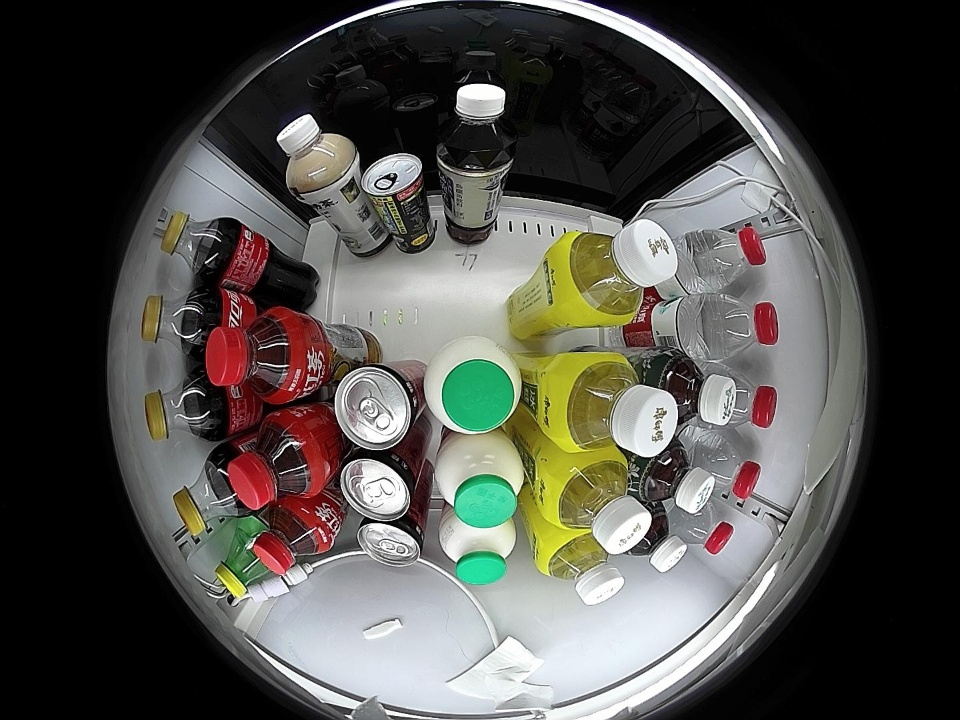binghongcha: (204, 308, 307, 404), (228, 410, 325, 509), (254, 499, 332, 578)
bingtangxueli: (548, 352, 679, 457), (554, 220, 678, 325), (542, 451, 651, 554), (538, 531, 625, 606)
kele-b-2: (172, 452, 249, 535), (160, 212, 232, 280), (144, 374, 216, 441), (141, 289, 208, 356)
lingdukele: (333, 363, 422, 450), (339, 449, 420, 520), (356, 513, 426, 568)
liziyuan: (424, 336, 521, 434), (436, 432, 525, 529), (440, 510, 517, 586)
moliqingcha: (651, 355, 737, 426), (632, 442, 717, 513), (628, 505, 687, 572)
nongfushanquan: (707, 293, 779, 361), (698, 432, 762, 504), (700, 226, 767, 289), (719, 368, 778, 430), (675, 501, 735, 556)
wuhounaicha: (276, 113, 357, 196)
wulongcha: (435, 79, 519, 170)
xuebi-b: (215, 522, 273, 601)
yezhi: (360, 152, 428, 211)
